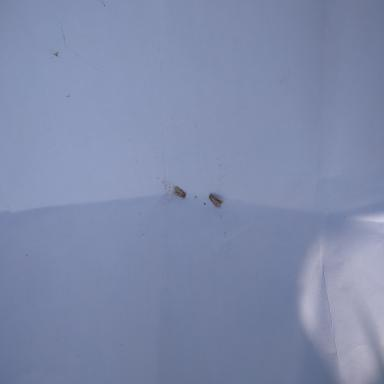pbw: (171, 185, 187, 200), (209, 192, 222, 209)
